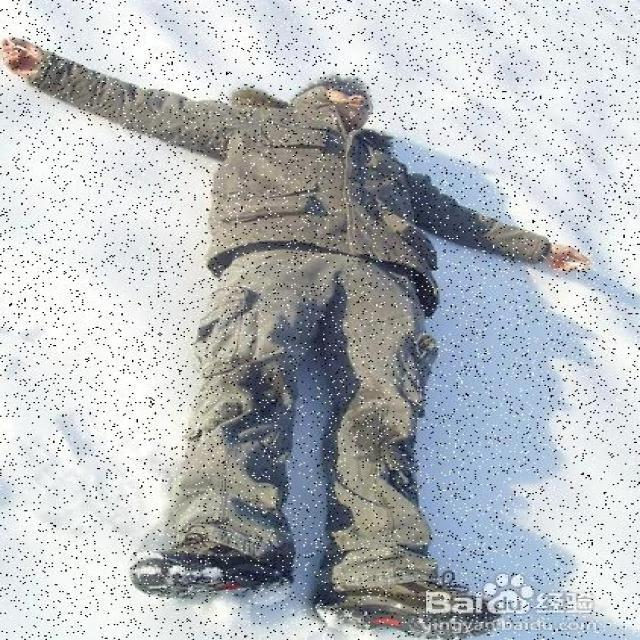fall: (26, 44, 586, 532)
